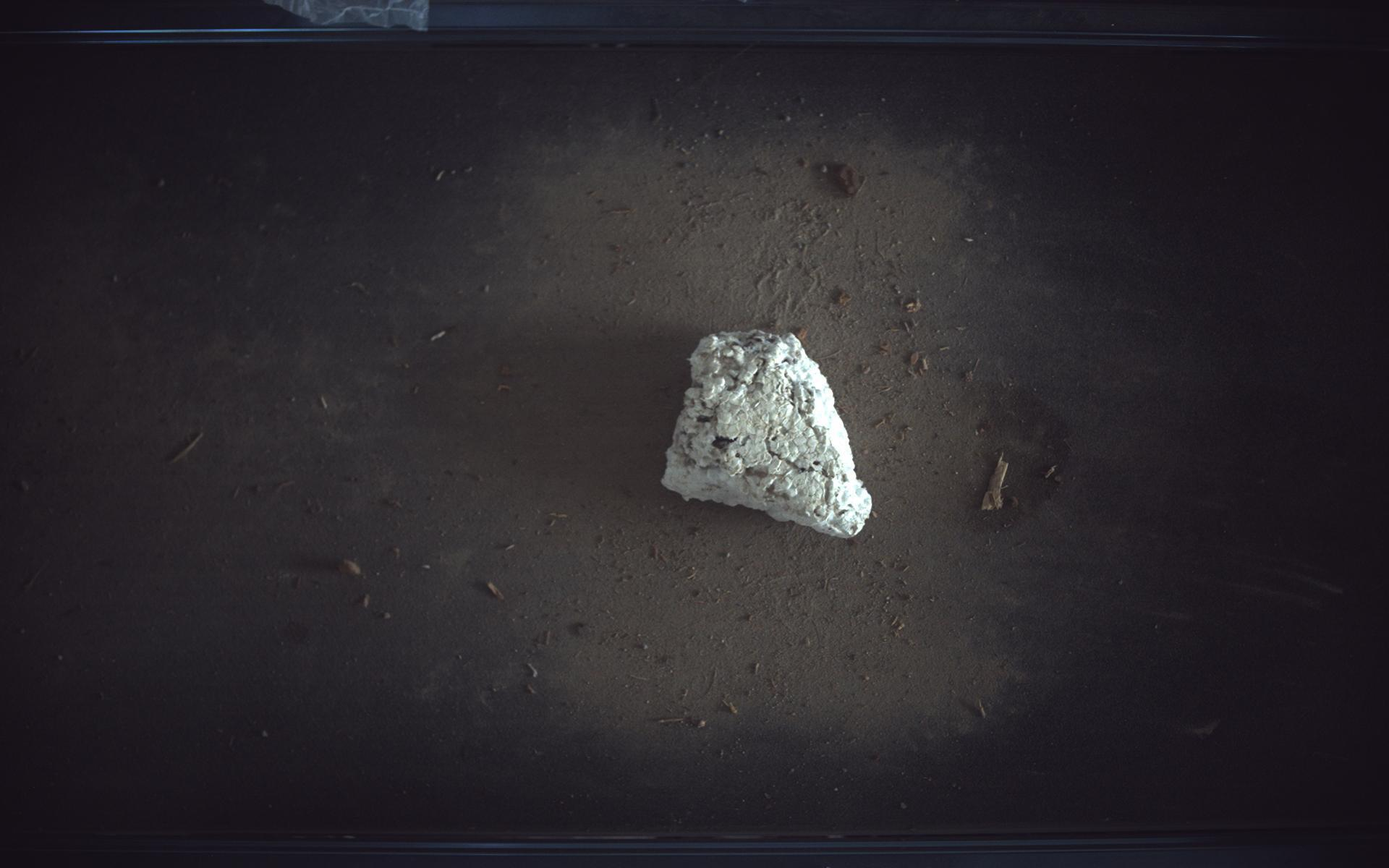foam: (663, 330, 874, 538)
